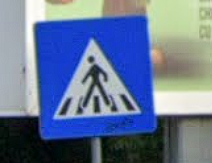trecere_pietoni: (28, 14, 161, 141)
